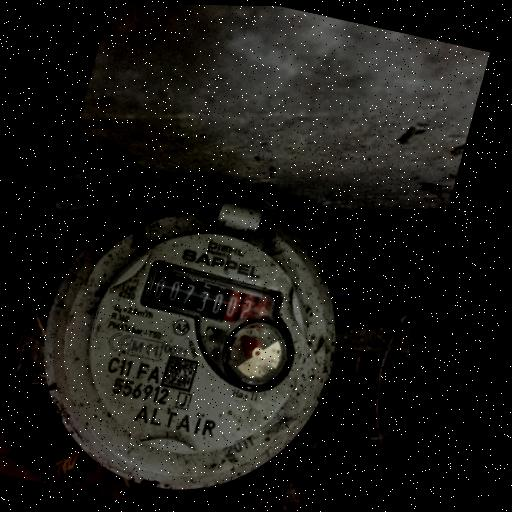0: (164, 274, 186, 307), (208, 285, 228, 319), (222, 289, 242, 323), (149, 270, 170, 302)
2: (237, 293, 259, 324)
3: (194, 281, 216, 315)
5: (253, 292, 274, 322)
7: (179, 277, 200, 310)
border_water_meter_number: (138, 261, 296, 341)
